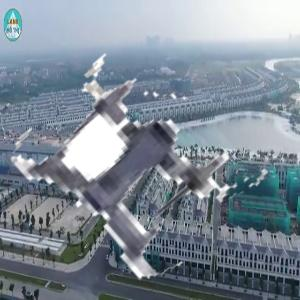drone: (7, 47, 255, 295)
